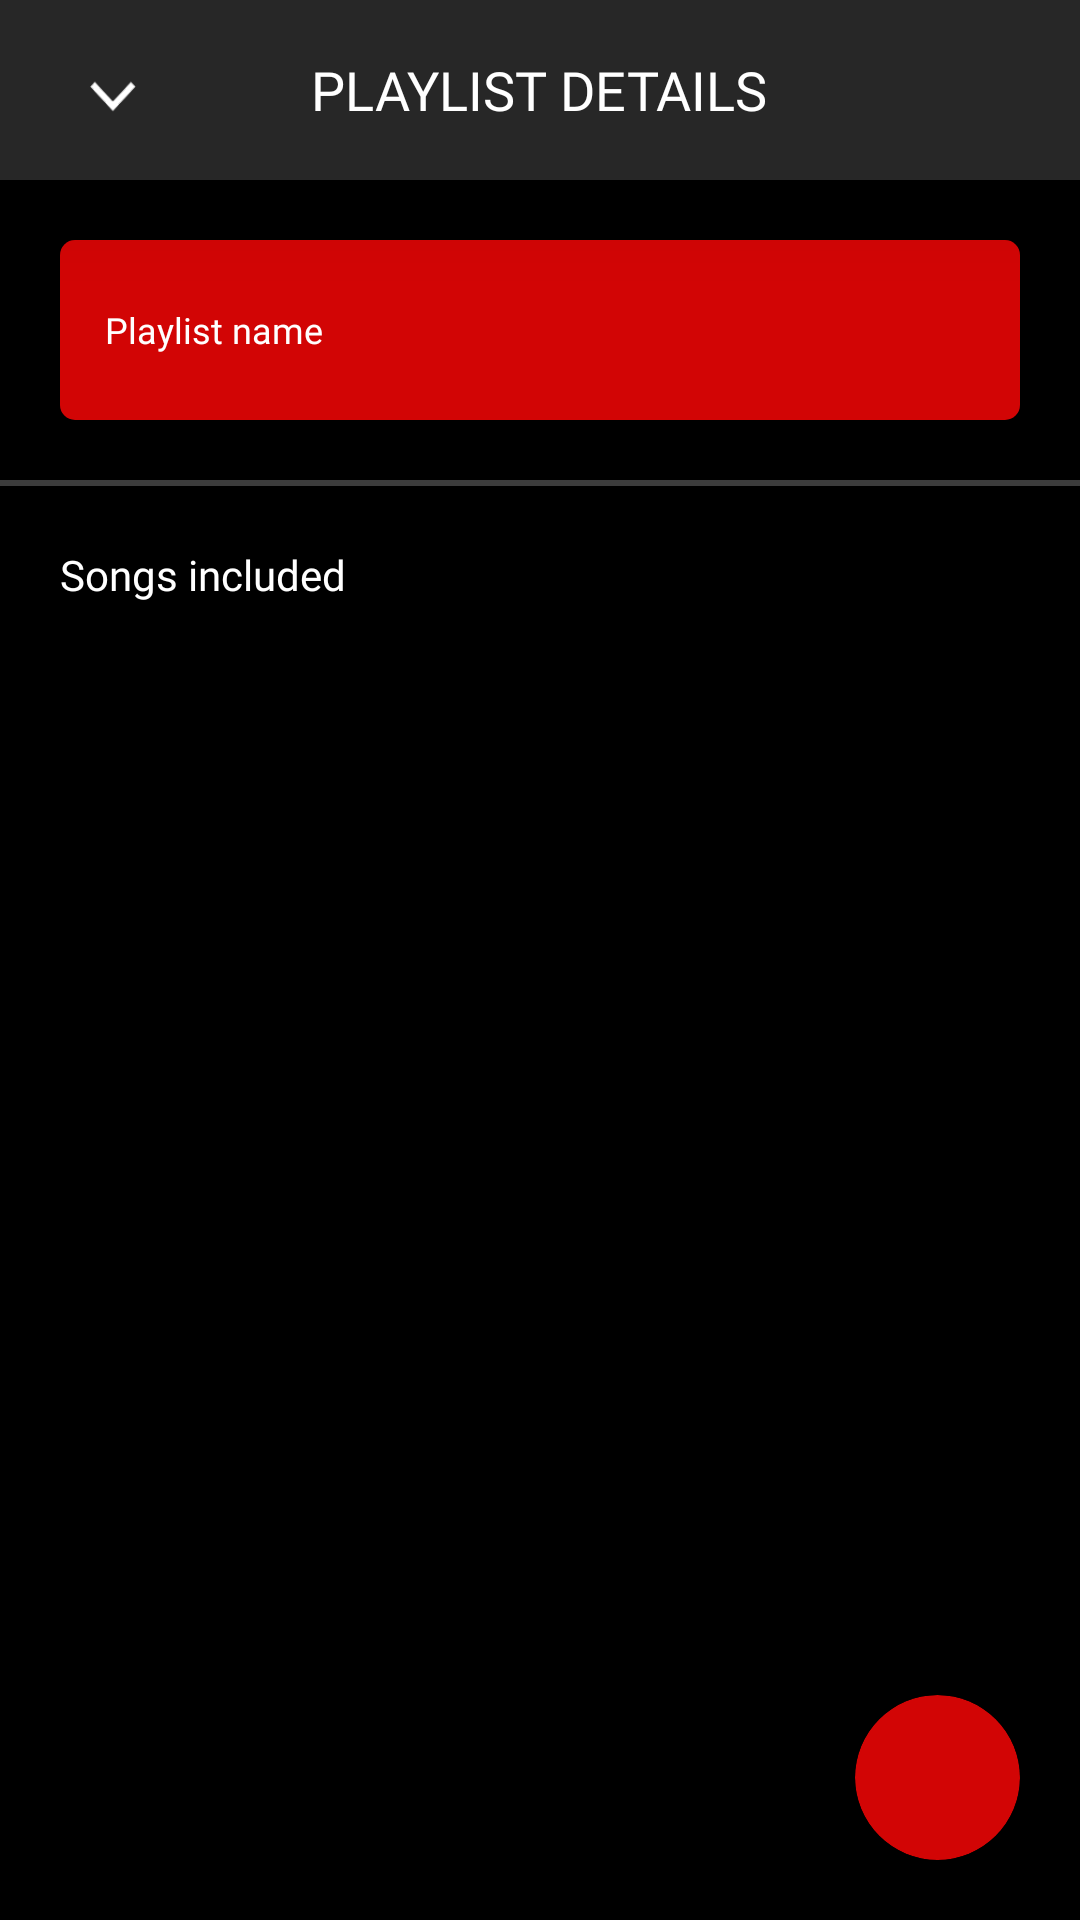

Where to tap for icons on this 1080 x 1920 app screen, as point (x, y):
minimize player: point (113, 96)
